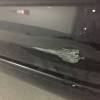scratch: (29, 42, 89, 63)
